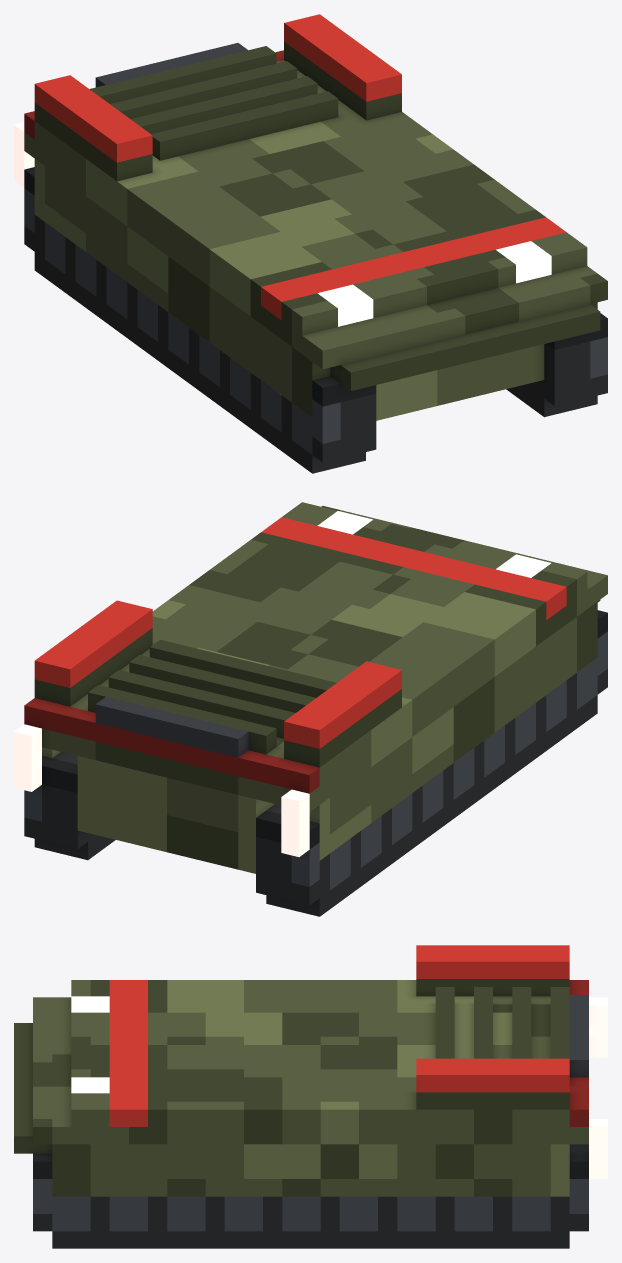
Rendered from cm_tank_h_0.glb.
The picture shows the model from 3 angles, top to bottom: view 1: azimuth 30°, elevation 25°; view 2: azimuth 150°, elevation 25°; view 3: azimuth 270°, elevation 25°; orthographic projection. The views are drawn at different scales.
Parts seen in each view (by area): view 1: cm_tank_h_0_body; view 2: cm_tank_h_0_body; view 3: cm_tank_h_0_body.
Part boxes in pixels (bbox=[...]): cm_tank_h_0_body: bbox=[14, 14, 607, 473]; cm_tank_h_0_body: bbox=[14, 502, 607, 916]; cm_tank_h_0_body: bbox=[14, 945, 607, 1248].
Bounding box in the file's own units: 1 × 0.625 × 1.94.
1 material, 1 textured.
